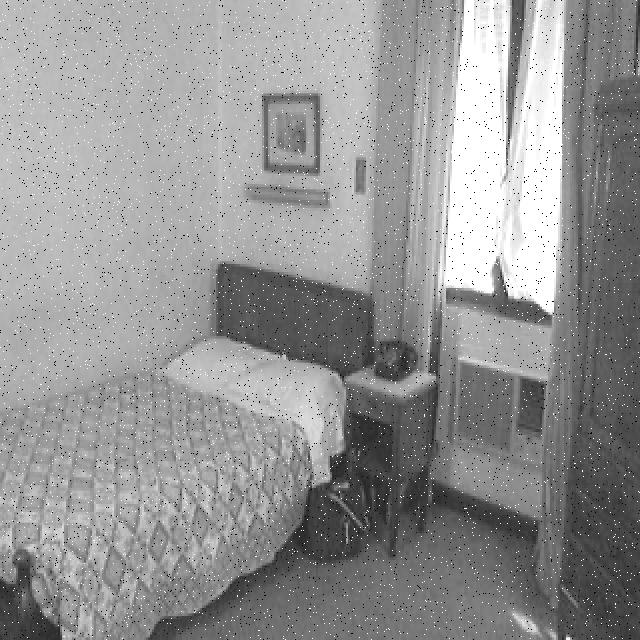bed: (0, 282, 374, 640)
